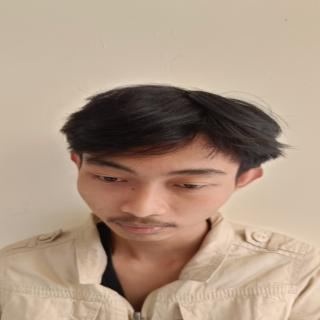Sedih: (68, 124, 240, 248)
